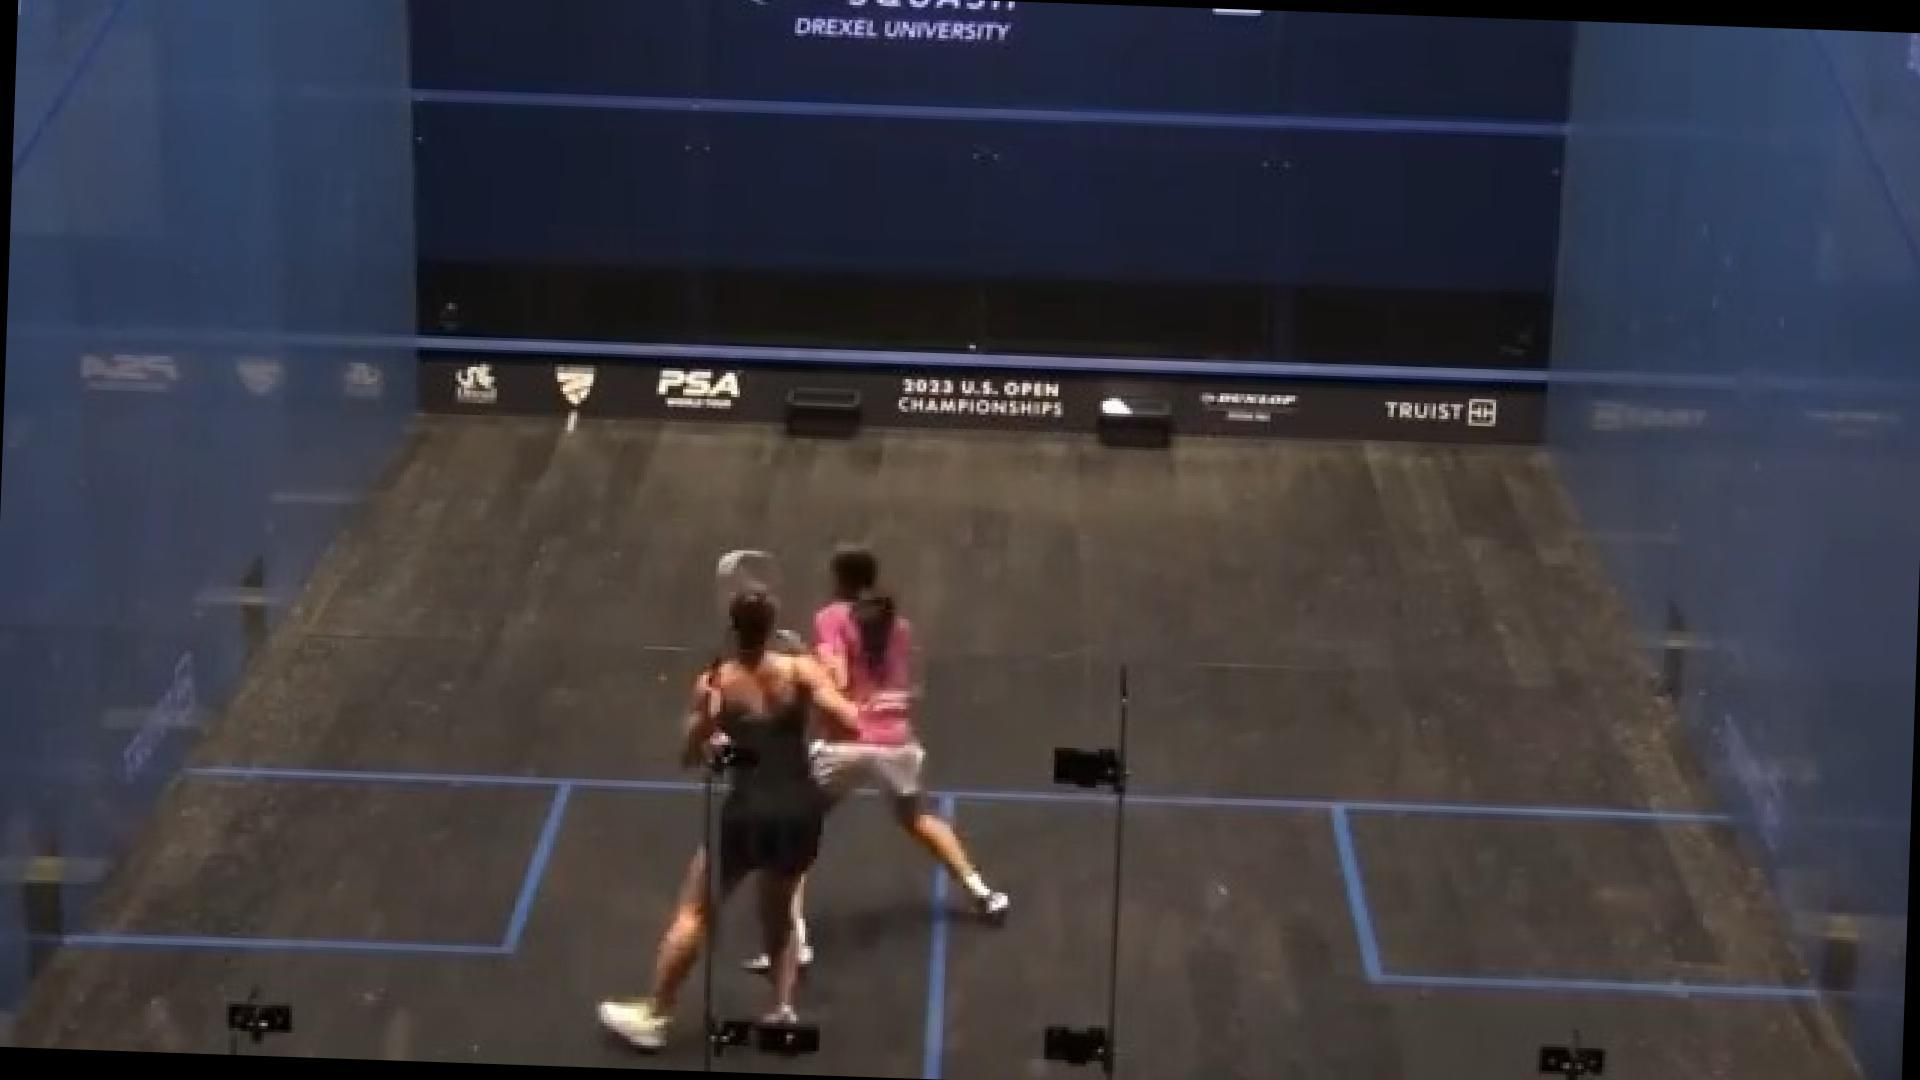Squash-Ball: (538, 401, 600, 451)
